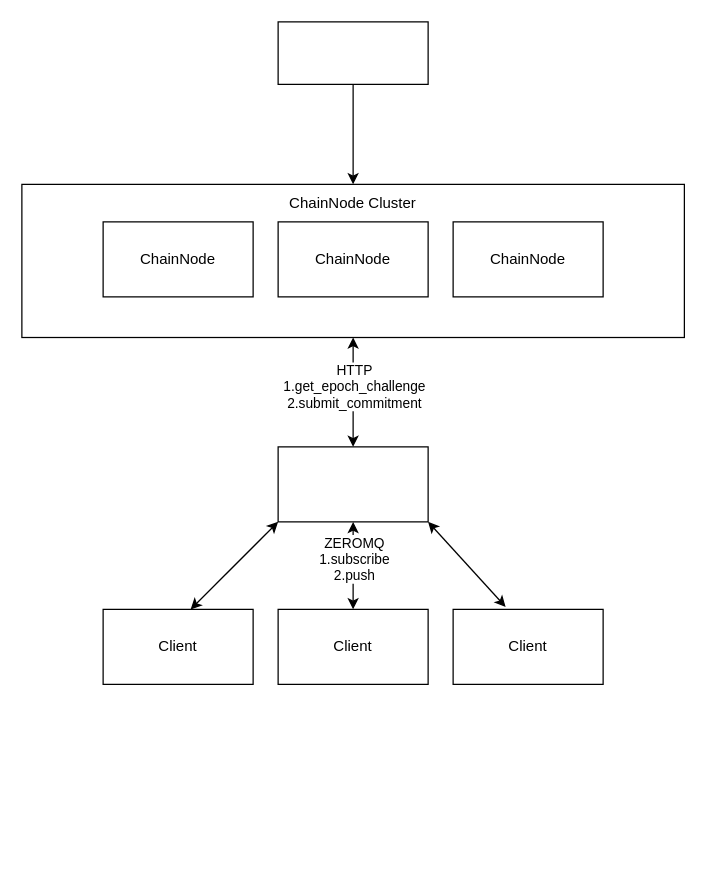
Image size: 706x881. Some labels were removed from this diagram. Here are the shapes that lost their labels. From the top down, the centre of each, then its label:
At point (352, 52): "PG".
At point (352, 484): "Proxy".
